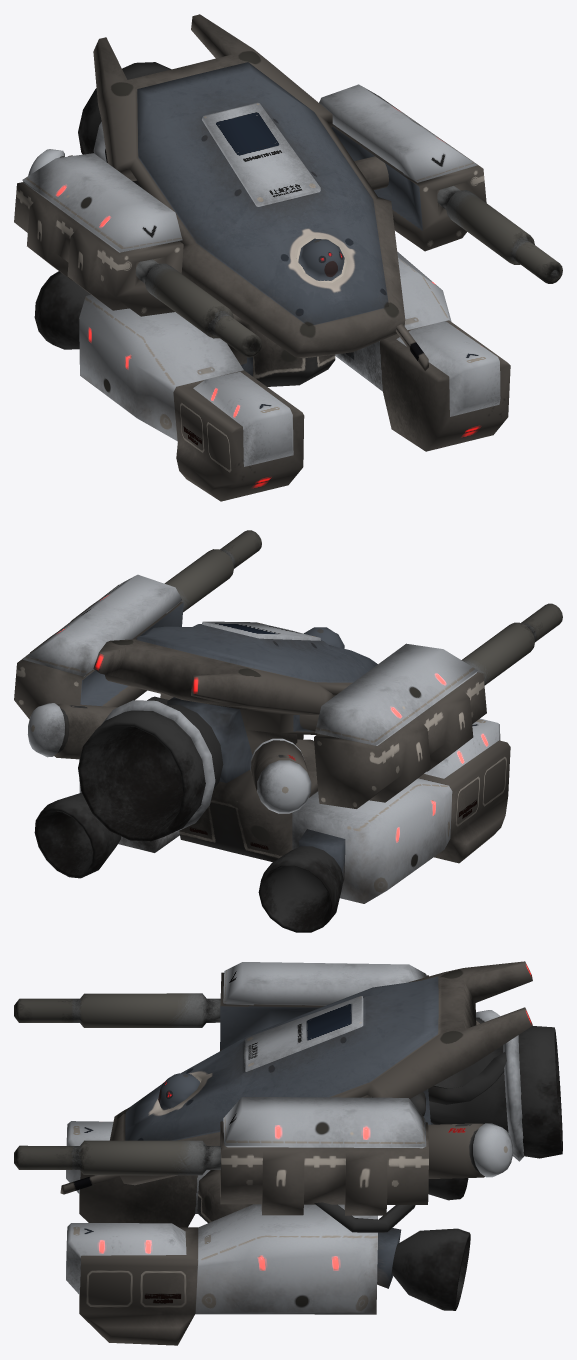
The model's file is range_drone.fbx.
The picture shows the model from 3 angles, top to bottom: view 1: azimuth 30°, elevation 25°; view 2: azimuth 150°, elevation 25°; view 3: azimuth 270°, elevation 25°; orthographic projection.
Visible parts, largest first — view 1: Drone1_low; view 2: Drone1_low; view 3: Drone1_low.
Part boxes in pixels (x1,y1,x2,y2): Drone1_low: (14,14,562,501); Drone1_low: (14,530,562,932); Drone1_low: (14,961,562,1345).
Bounding box in the file's own units: 568 × 699 × 412.
1 material, 1 textured.
